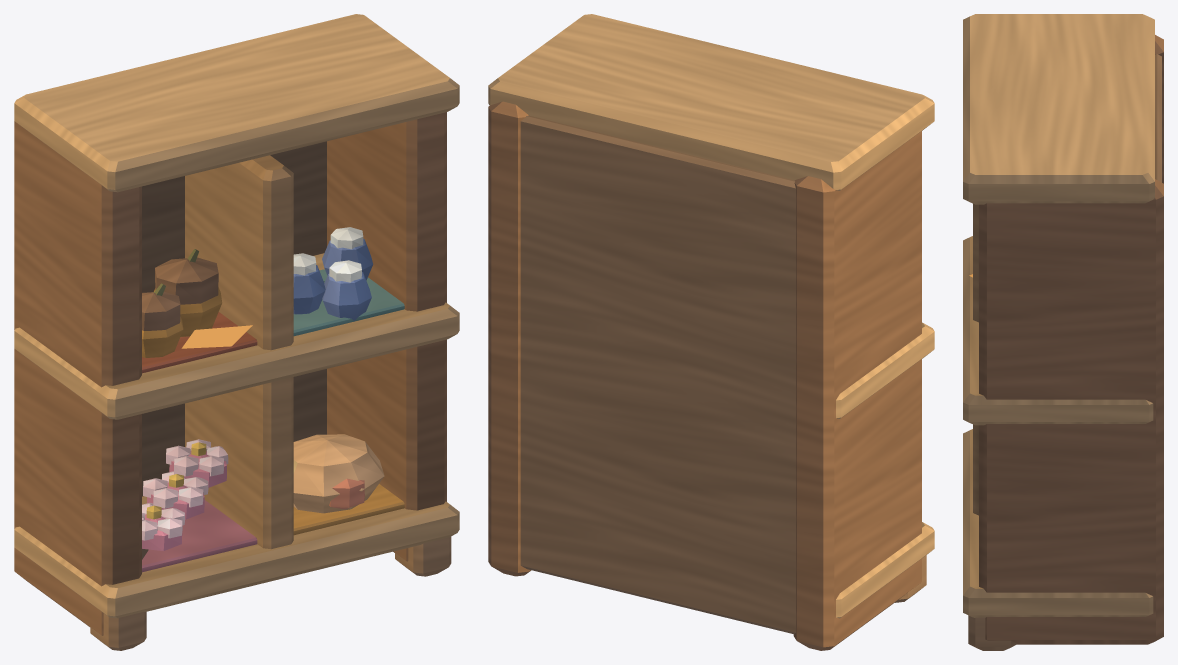
Rendered from furniture_seasons.glb.
The picture shows the model from 3 angles, left to right: view 1: azimuth 30°, elevation 25°; view 2: azimuth 150°, elevation 25°; view 3: azimuth 270°, elevation 25°; orthographic projection. The views are drawn at different scales.
Visible parts, largest first — view 1: Jahreszeitenregal · Vier Erinnerungsfächer; view 2: Jahreszeitenregal · Vier Erinnerungsfächer; view 3: Jahreszeitenregal · Vier Erinnerungsfächer.
Boxes of the visible parts, <box> form: Jahreszeitenregal · Vier Erinnerungsfächer: <box>14,14,459,650</box>; Jahreszeitenregal · Vier Erinnerungsfächer: <box>488,14,934,650</box>; Jahreszeitenregal · Vier Erinnerungsfächer: <box>963,14,1163,650</box>.
Bounding box in the file's own units: 1.11 × 1.49 × 0.565.
4 materials, 3 textured.
